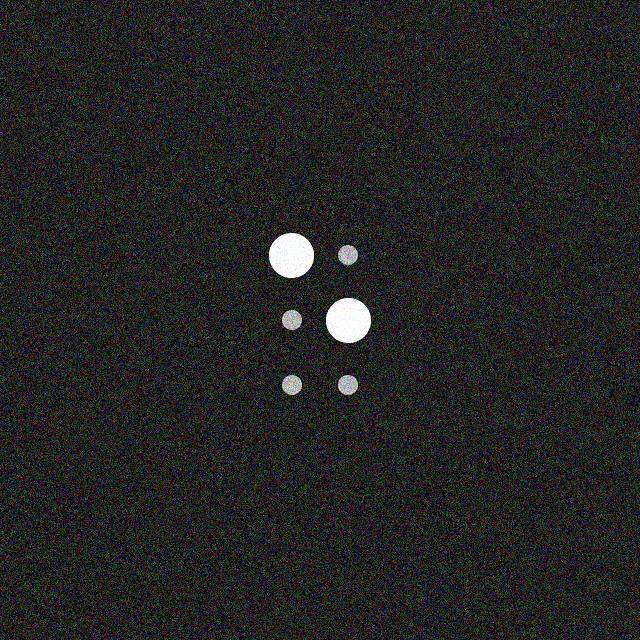E: (263, 226, 374, 412)
